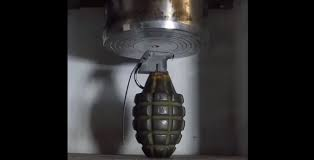e1: (118, 47, 185, 157)
